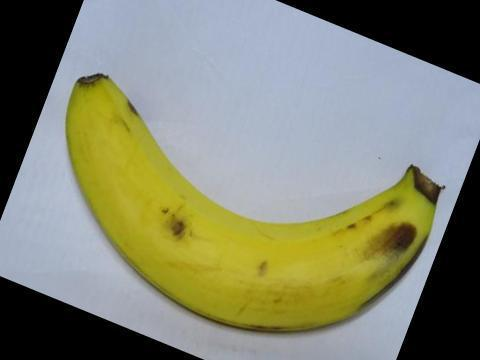freshripe: (50, 66, 458, 356)
